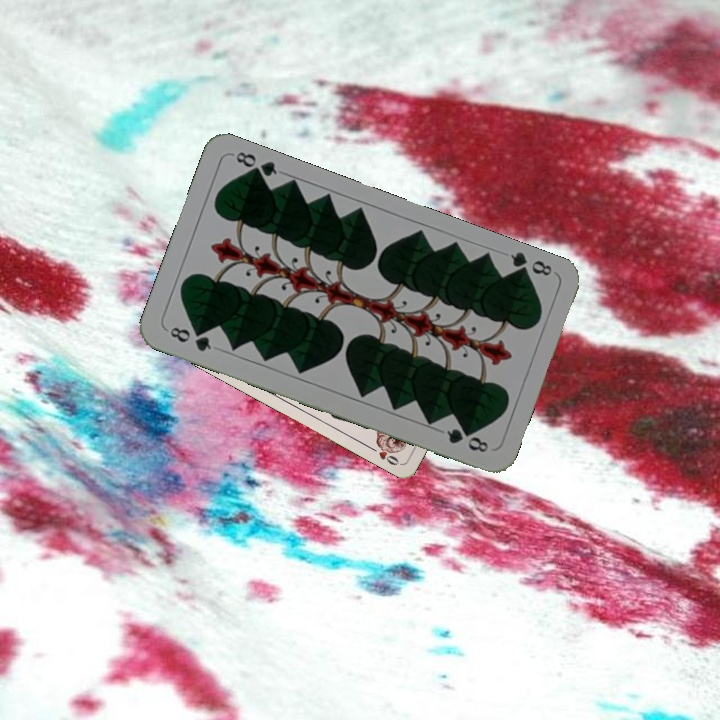G8: (506, 248, 555, 282), (165, 322, 214, 354)
